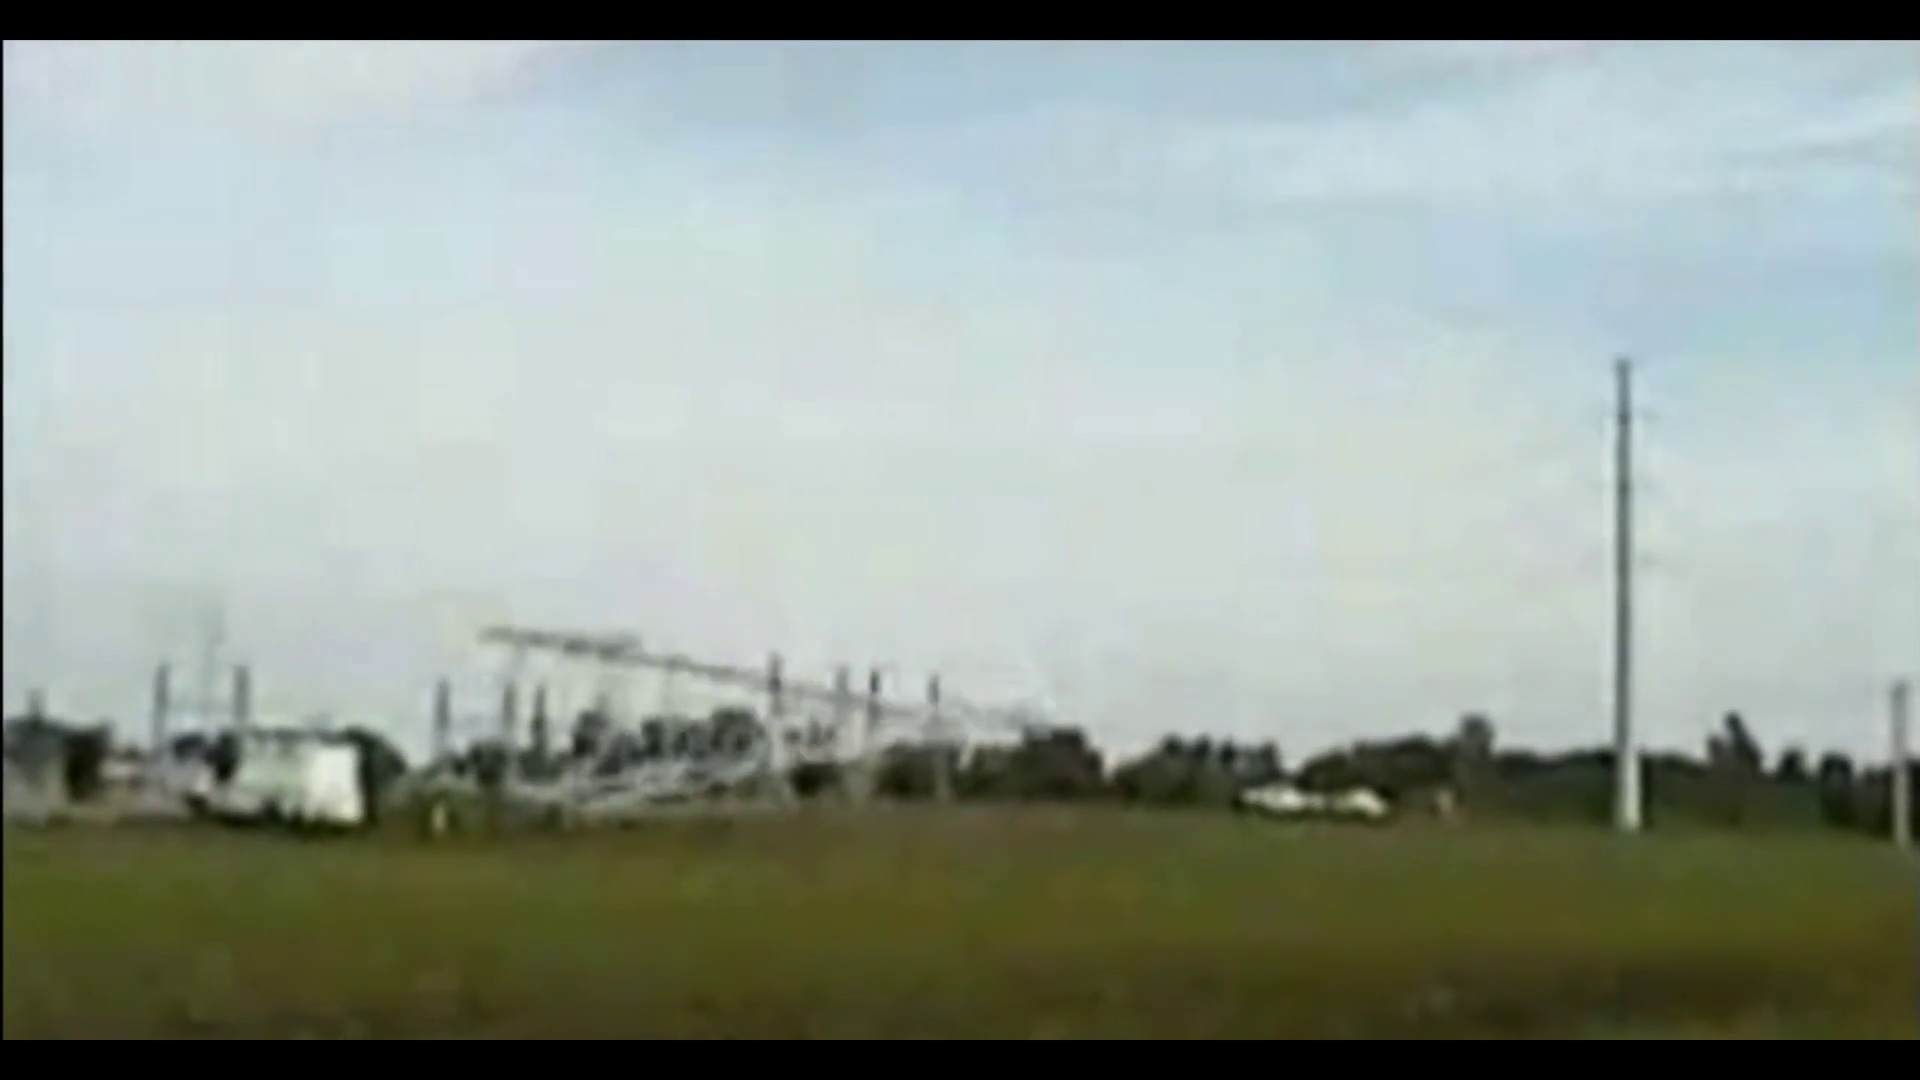tower_down: (456, 593, 1088, 825)
